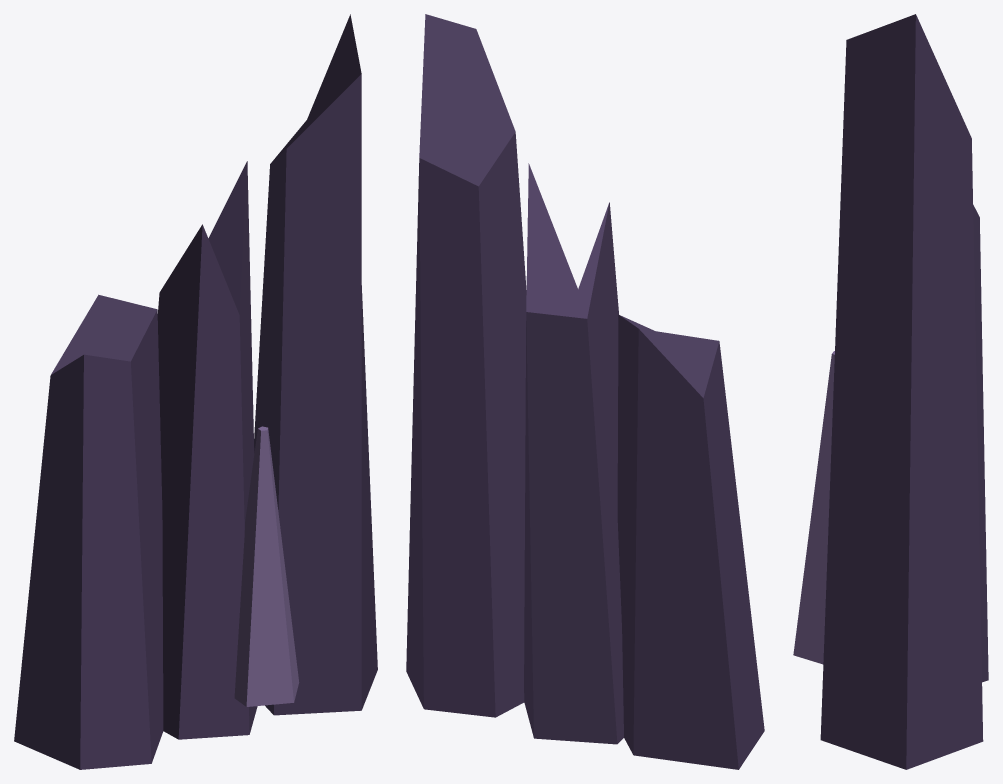
Rendered from map-boundaries-v5__dragon_10.glb.
3 renders of one model, left to right at view 1: azimuth 30°, elevation 25°; view 2: azimuth 150°, elevation 25°; view 3: azimuth 270°, elevation 25°, orthographic. The views are drawn at different scales.
Visible parts, largest first — view 1: dragon_10; view 2: dragon_10; view 3: dragon_10.
Part boxes in pixels (x1,y1,x2,y2): dragon_10: [14, 14, 377, 769]; dragon_10: [406, 14, 764, 769]; dragon_10: [793, 14, 988, 769].
Size of the model in its own units: 1.45 by 2.63 by 0.6274.
